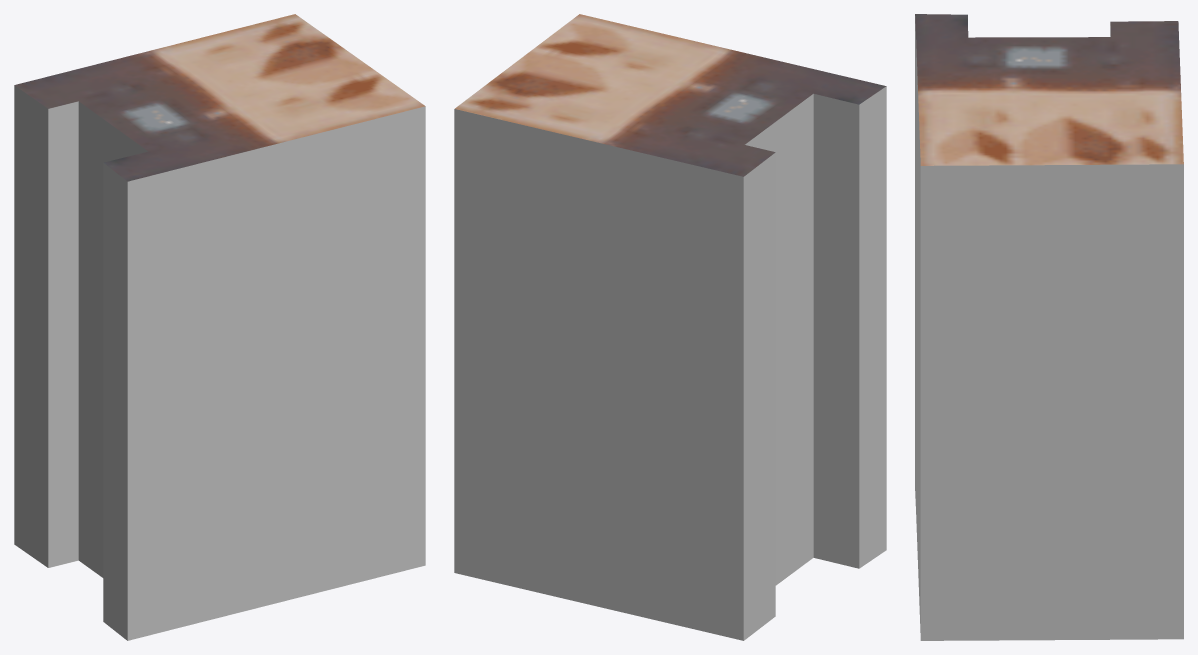
The model's file is DEBW_0010007Tx7S.gltf.
3 renders of one model, left to right at view 1: azimuth 30°, elevation 25°; view 2: azimuth 150°, elevation 25°; view 3: azimuth 270°, elevation 25°, orthographic. The views are drawn at different scales.
Parts seen in each view (by area): view 1: Z_UP; view 2: Z_UP; view 3: Z_UP.
Part boxes in pixels (x1,y1,x2,y2): Z_UP: (14, 14, 425, 640); Z_UP: (454, 14, 886, 640); Z_UP: (915, 14, 1183, 640).
Size of the model in its own units: 14.47 by 21.1 by 10.82.
2 materials, 1 textured.
